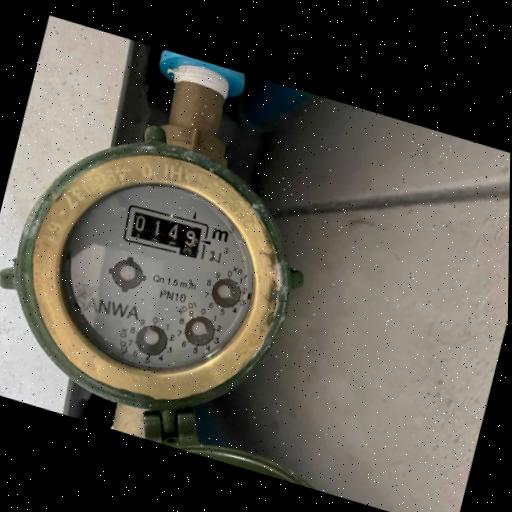0: (129, 210, 153, 241)
1: (145, 213, 169, 245)
4: (161, 218, 186, 249)
9: (176, 223, 204, 260)
border_water_meter_number: (120, 199, 212, 264)
